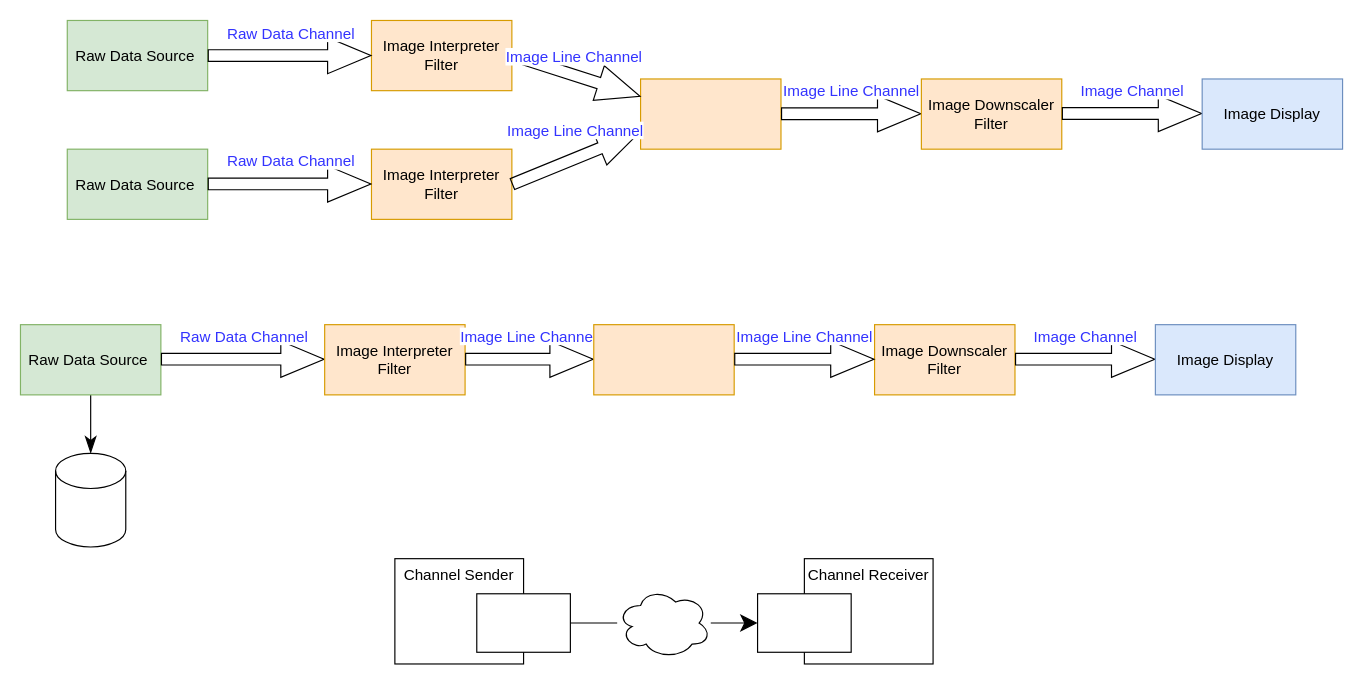
Some shapes in this 1363 by 684 pixel diagram are drawn without their labels. Here are the shapes that lost their labels. From the top down, the box of each, then its label:
(639, 78, 781, 149): Image Mix Filter
(593, 324, 734, 395): LUT Filter
(54, 452, 126, 547): Big Snapshot Image
(476, 593, 570, 652): Data Transport Sender
(756, 593, 851, 652): Data Transport Receiver
